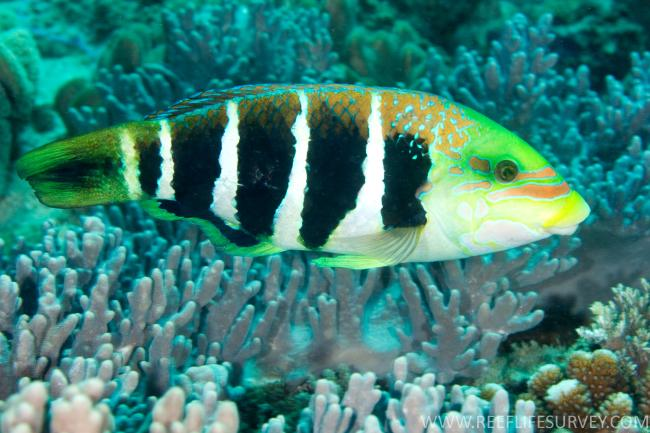fish: (15, 82, 592, 271)
